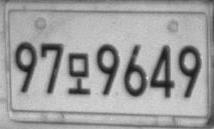4: (149, 44, 175, 99)
6: (123, 44, 147, 97)
7: (40, 42, 64, 93)
9: (95, 43, 120, 96), (177, 44, 202, 97), (13, 41, 38, 93)
모: (66, 52, 91, 95)
